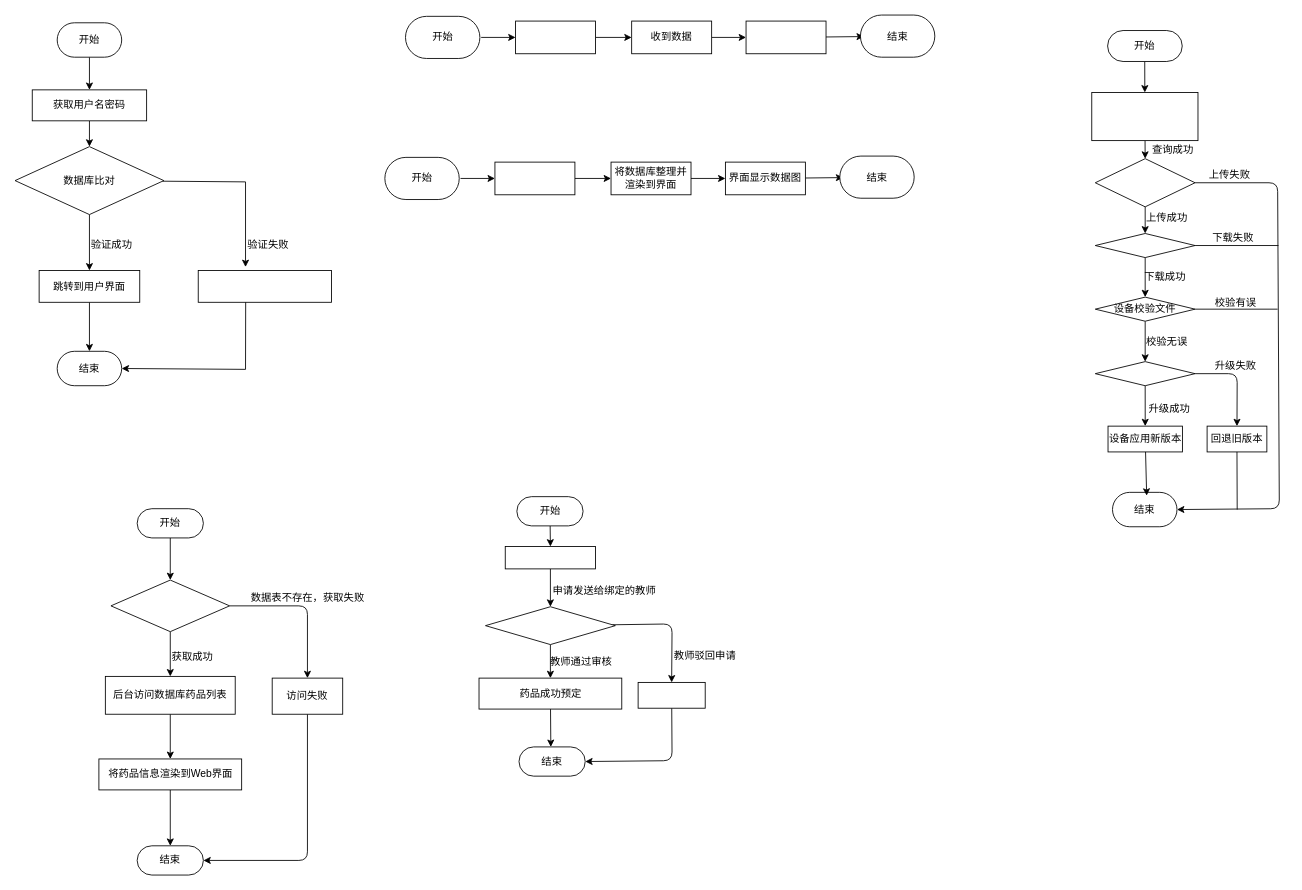
This 1302x890 diagram has some shape labels left out. Here are the shapes that lost their labels. From the top down, the centre of each, then its label:
At point (555, 37): "订阅对应主题".
At point (785, 37): "显示数据".
At point (1144, 116): "查询设备当前版本".
At point (534, 178): "后台读取数据库".
At point (1144, 182): "上传新版本文件".
At point (1144, 245): "设备下载文件".
At point (264, 286): "提示：用户名或密码错误".
At point (1144, 373): "设备升级固件".
At point (550, 557): "学生提交申请".
At point (170, 605): "获取药品信息".
At point (550, 625): "教师审核".
At point (671, 695): "药品预定失败".
